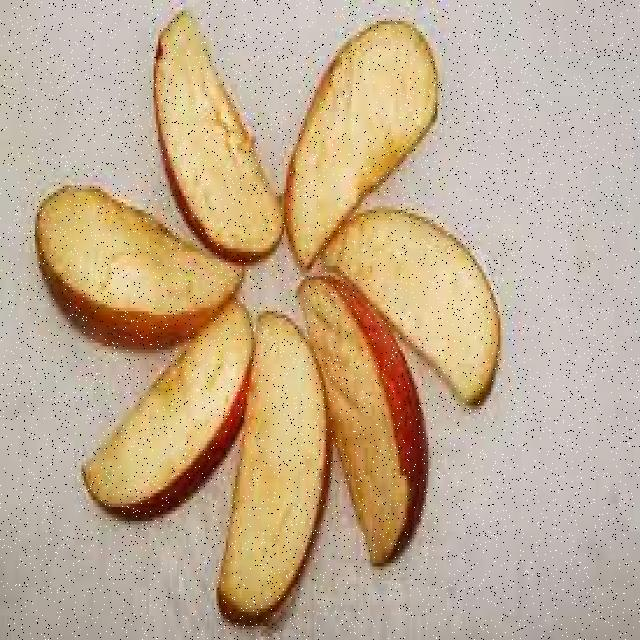Apple: (324, 210, 522, 406), (308, 287, 433, 572), (80, 304, 258, 499), (23, 172, 238, 333), (155, 11, 290, 266), (292, 27, 436, 212), (236, 312, 325, 610)
